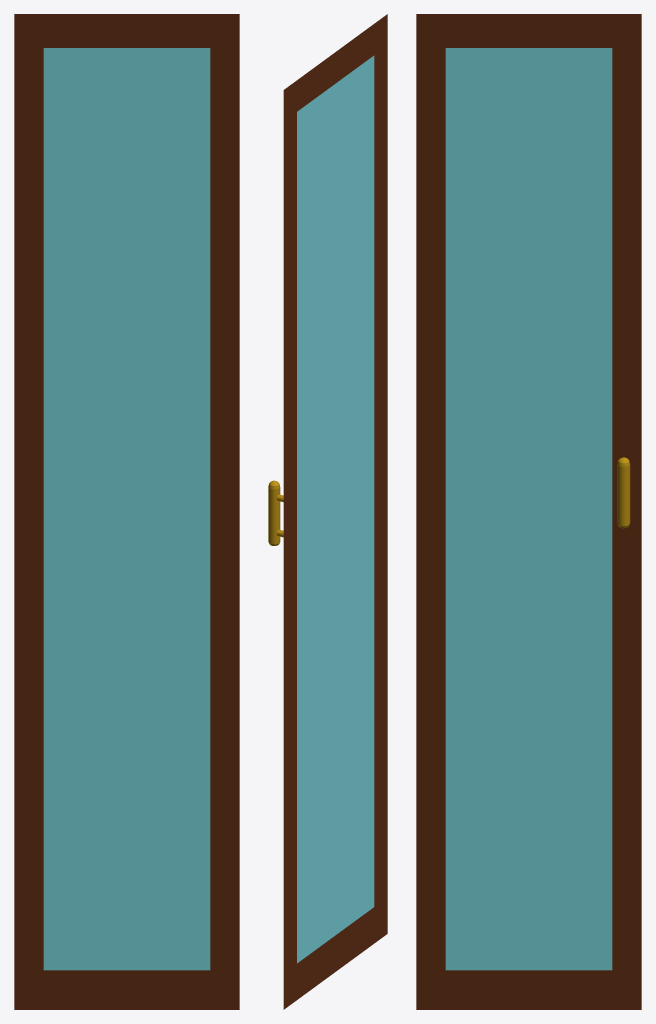
Rendered from vetrinaDoorLeft.fbx.
The picture shows the model from 3 angles, left to right: view 1: azimuth 90°, elevation 25°; view 2: azimuth 150°, elevation 25°; view 3: azimuth 270°, elevation 25°; orthographic projection. The views are drawn at different scales.
Parts seen in each view (by area): view 1: Cylinder.001; view 2: Cylinder.001; view 3: Cylinder.001.
Part boxes in pixels (x1,y1,x2,y2): Cylinder.001: [14, 14, 239, 1009]; Cylinder.001: [268, 14, 387, 1009]; Cylinder.001: [416, 14, 641, 1009].
Size of the model in its own units: 9.23 by 357 by 73.09.
